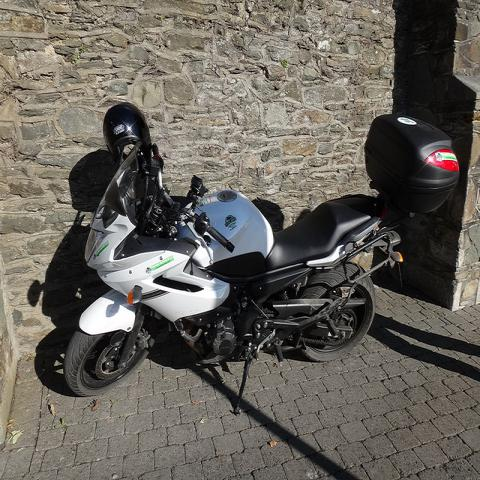motorcycle: (65, 133, 401, 402)
